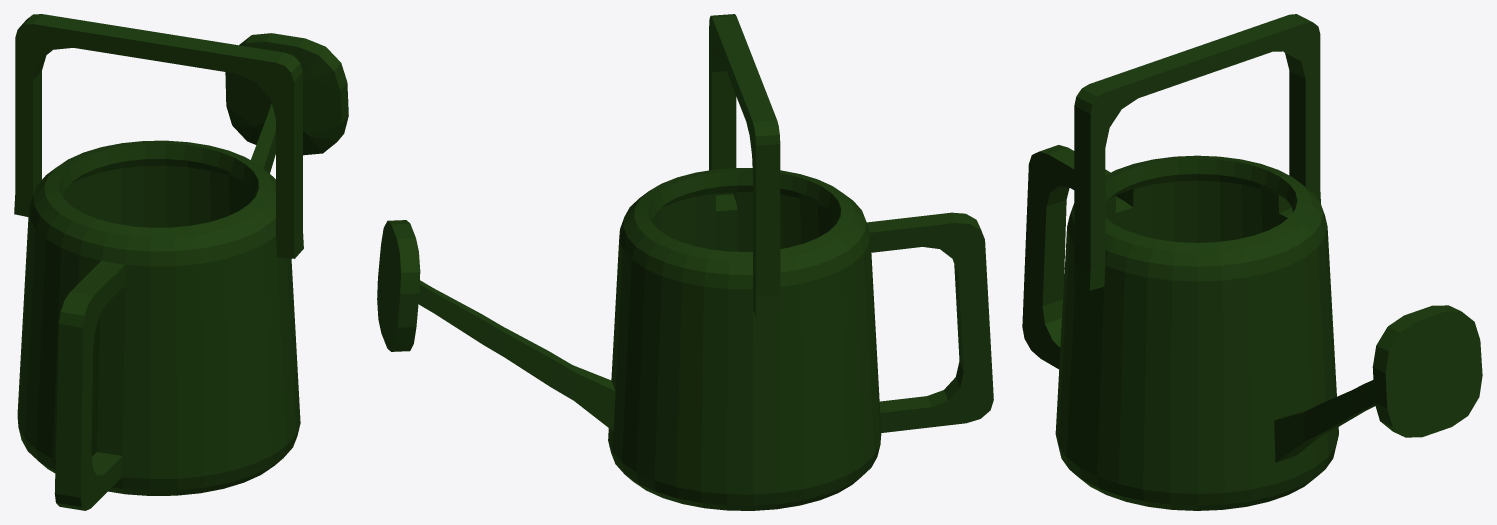
Rendered from WateringCan.fbx.
3 views of the same model, side by side, from view 1: azimuth 30°, elevation 25°; view 2: azimuth 150°, elevation 25°; view 3: azimuth 270°, elevation 25° (orthographic). The views are drawn at different scales.
Visible parts, largest first — view 1: Cylinder; view 2: Cylinder; view 3: Cylinder.
Boxes of the visible parts, <box> form: Cylinder: <box>14,14,348,510</box>; Cylinder: <box>377,14,993,510</box>; Cylinder: <box>1022,14,1482,510</box>.
Size of the model in its own units: 1127 by 940 by 965.
Materials: 1 (1 with a texture image).
